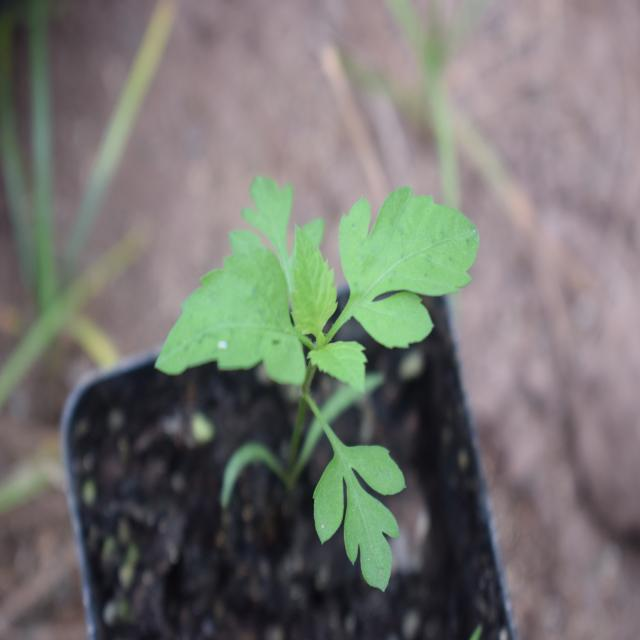Bidens pilosa: (179, 151, 485, 594)
